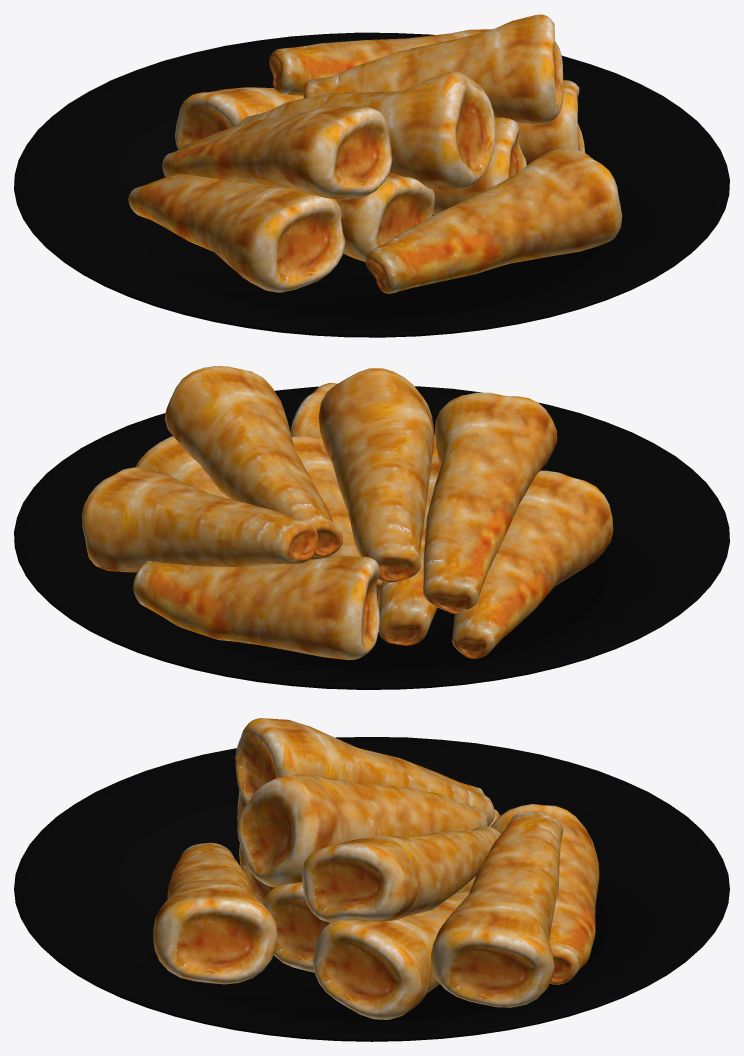
File: Golubets.fbx
3 views of the same model, one above another, from view 1: azimuth 30°, elevation 25°; view 2: azimuth 150°, elevation 25°; view 3: azimuth 270°, elevation 25° (orthographic).
Visible parts, largest first — view 1: Plate, Golubets.004, Golubets, Golubets.008, Golubets.007, Golubets.006, Golubets.001, Golubets.009, Golubets.005, Golubets.002, Golubets.003; view 2: Plate, Golubets.005, Golubets.008, Golubets.006, Golubets.009, Golubets.007, Golubets, Golubets.001, Golubets.002, Golubets.003, Golubets.004; view 3: Plate, Golubets.009, Golubets.006, Golubets.007, Golubets.004, Golubets.003, Golubets.008, Golubets.005, Golubets.002, Golubets.001.
Part boxes in pixels (x1=…): Plate: x1=14, y1=32, x2=729, y2=337; Golubets.004: x1=365, y1=148, x2=622, y2=293; Golubets: x1=128, y1=174, x2=345, y2=292; Golubets.008: x1=162, y1=106, x2=392, y2=199; Golubets.007: x1=303, y1=14, x2=563, y2=124; Golubets.006: x1=238, y1=71, x2=495, y2=190; Golubets.001: x1=335, y1=172, x2=434, y2=261; Golubets.009: x1=269, y1=29, x2=492, y2=95; Golubets.005: x1=175, y1=87, x2=303, y2=149; Golubets.002: x1=433, y1=117, x2=526, y2=214; Golubets.003: x1=517, y1=80, x2=585, y2=164; Plate: x1=14, y1=386, x2=729, y2=689; Golubets.005: x1=133, y1=556, x2=379, y2=659; Golubets.008: x1=423, y1=392, x2=557, y2=614; Golubets.006: x1=318, y1=368, x2=434, y2=582; Golubets.009: x1=81, y1=467, x2=317, y2=572; Golubets.007: x1=164, y1=366, x2=342, y2=557; Golubets: x1=452, y1=470, x2=613, y2=658; Golubets.001: x1=378, y1=456, x2=440, y2=645; Golubets.002: x1=291, y1=436, x2=382, y2=608; Golubets.003: x1=135, y1=436, x2=229, y2=498; Golubets.004: x1=290, y1=383, x2=437, y2=457; Plate: x1=14, y1=737, x2=729, y2=1041; Golubets.009: x1=431, y1=811, x2=563, y2=1007; Golubets.006: x1=237, y1=774, x2=487, y2=887; Golubets.007: x1=302, y1=826, x2=500, y2=922; Golubets.004: x1=153, y1=842, x2=277, y2=984; Golubets.003: x1=312, y1=890, x2=470, y2=1019; Golubets.008: x1=235, y1=718, x2=494, y2=826; Golubets.005: x1=491, y1=804, x2=599, y2=984; Golubets.002: x1=263, y1=876, x2=475, y2=972; Golubets.001: x1=239, y1=844, x2=274, y2=904.
Size of the model in its own units: 155 by 41.53 by 155.
Materials: 2 (1 with a texture image).
